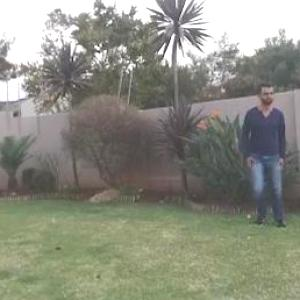follow: (244, 76, 290, 234)
